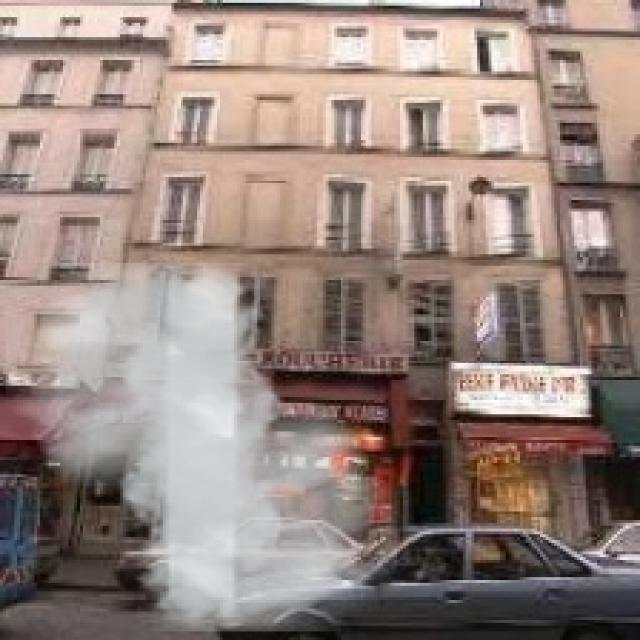smoke: (6, 263, 397, 631)
